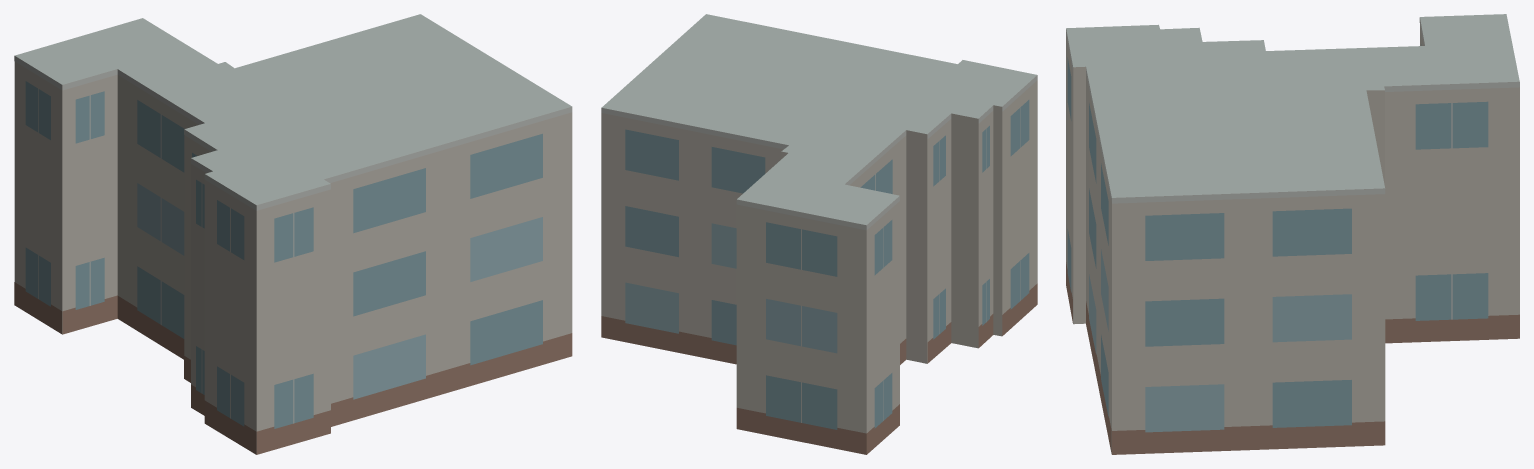
Rendered from survey-upis-33006454.glb.
3 views of the same model, side by side, from view 1: azimuth 30°, elevation 25°; view 2: azimuth 150°, elevation 25°; view 3: azimuth 270°, elevation 25° (orthographic). The views are drawn at different scales.
Parts seen in each view (by area): view 1: survey-upis-33006454.tmp; view 2: survey-upis-33006454.tmp; view 3: survey-upis-33006454.tmp.
Boxes of the visible parts, <box> form: survey-upis-33006454.tmp: <box>14,14,572,454</box>; survey-upis-33006454.tmp: <box>601,14,1037,454</box>; survey-upis-33006454.tmp: <box>1066,14,1519,454</box>.
Size of the model in its own units: 16.74 by 10.9 by 17.45.
